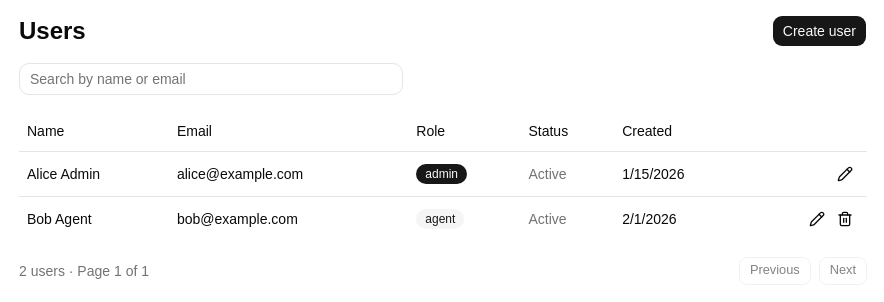
Test: UsersPage › searches by name or email after the debounce and resets to page 1
Expected: the text "Alice Admin" is shown, [19, 151, 169, 196]
Type " bob " into the search field named "Search users". click: (211,79)
box: [19, 63, 403, 95]
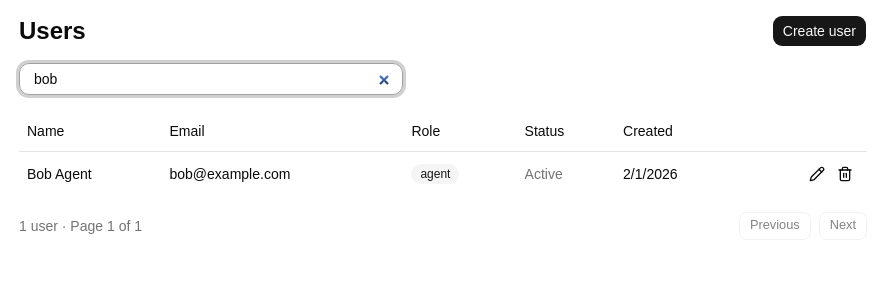
Expected: the text "Bob Agent" is shown, [19, 151, 162, 196]
Expected: the text "Alice Admin" is gone
